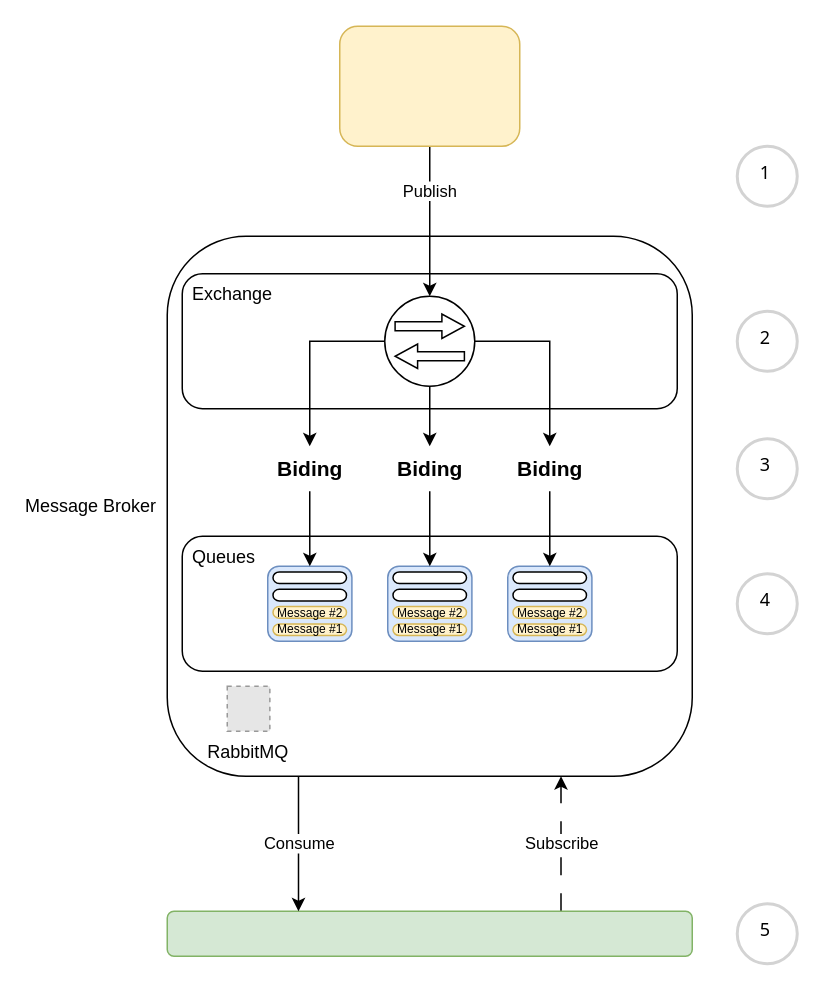
Image size: 824x992. Some labels were removed from this diagram. Grey dashed boxes stand in for pictures. The centre of each missing label's shape, as x and y in pixels:
"Consumer" goes at pixel 429 933.
"Producer" goes at pixel 429 85.
